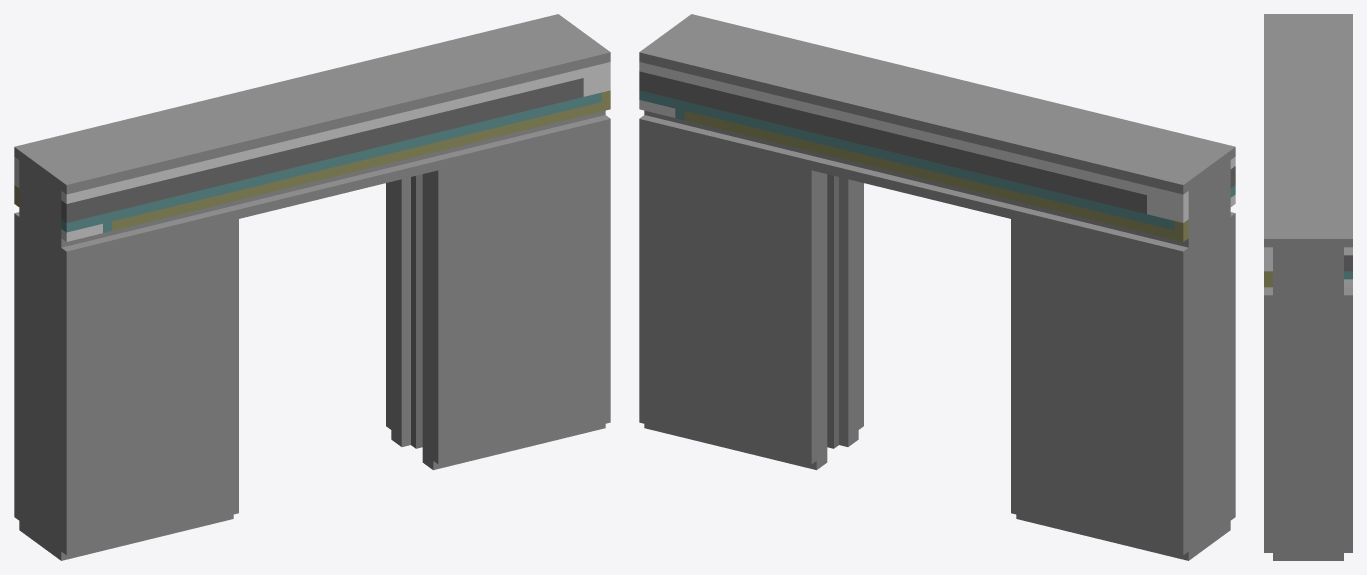
File: Conference Room Doorway.obj
3 views of the same model, side by side, from view 1: azimuth 30°, elevation 25°; view 2: azimuth 150°, elevation 25°; view 3: azimuth 270°, elevation 25° (orthographic). The views are drawn at different scales.
Bounding box in the file's own units: 60 × 40 × 10.
Materials: 1 (1 with a texture image).
